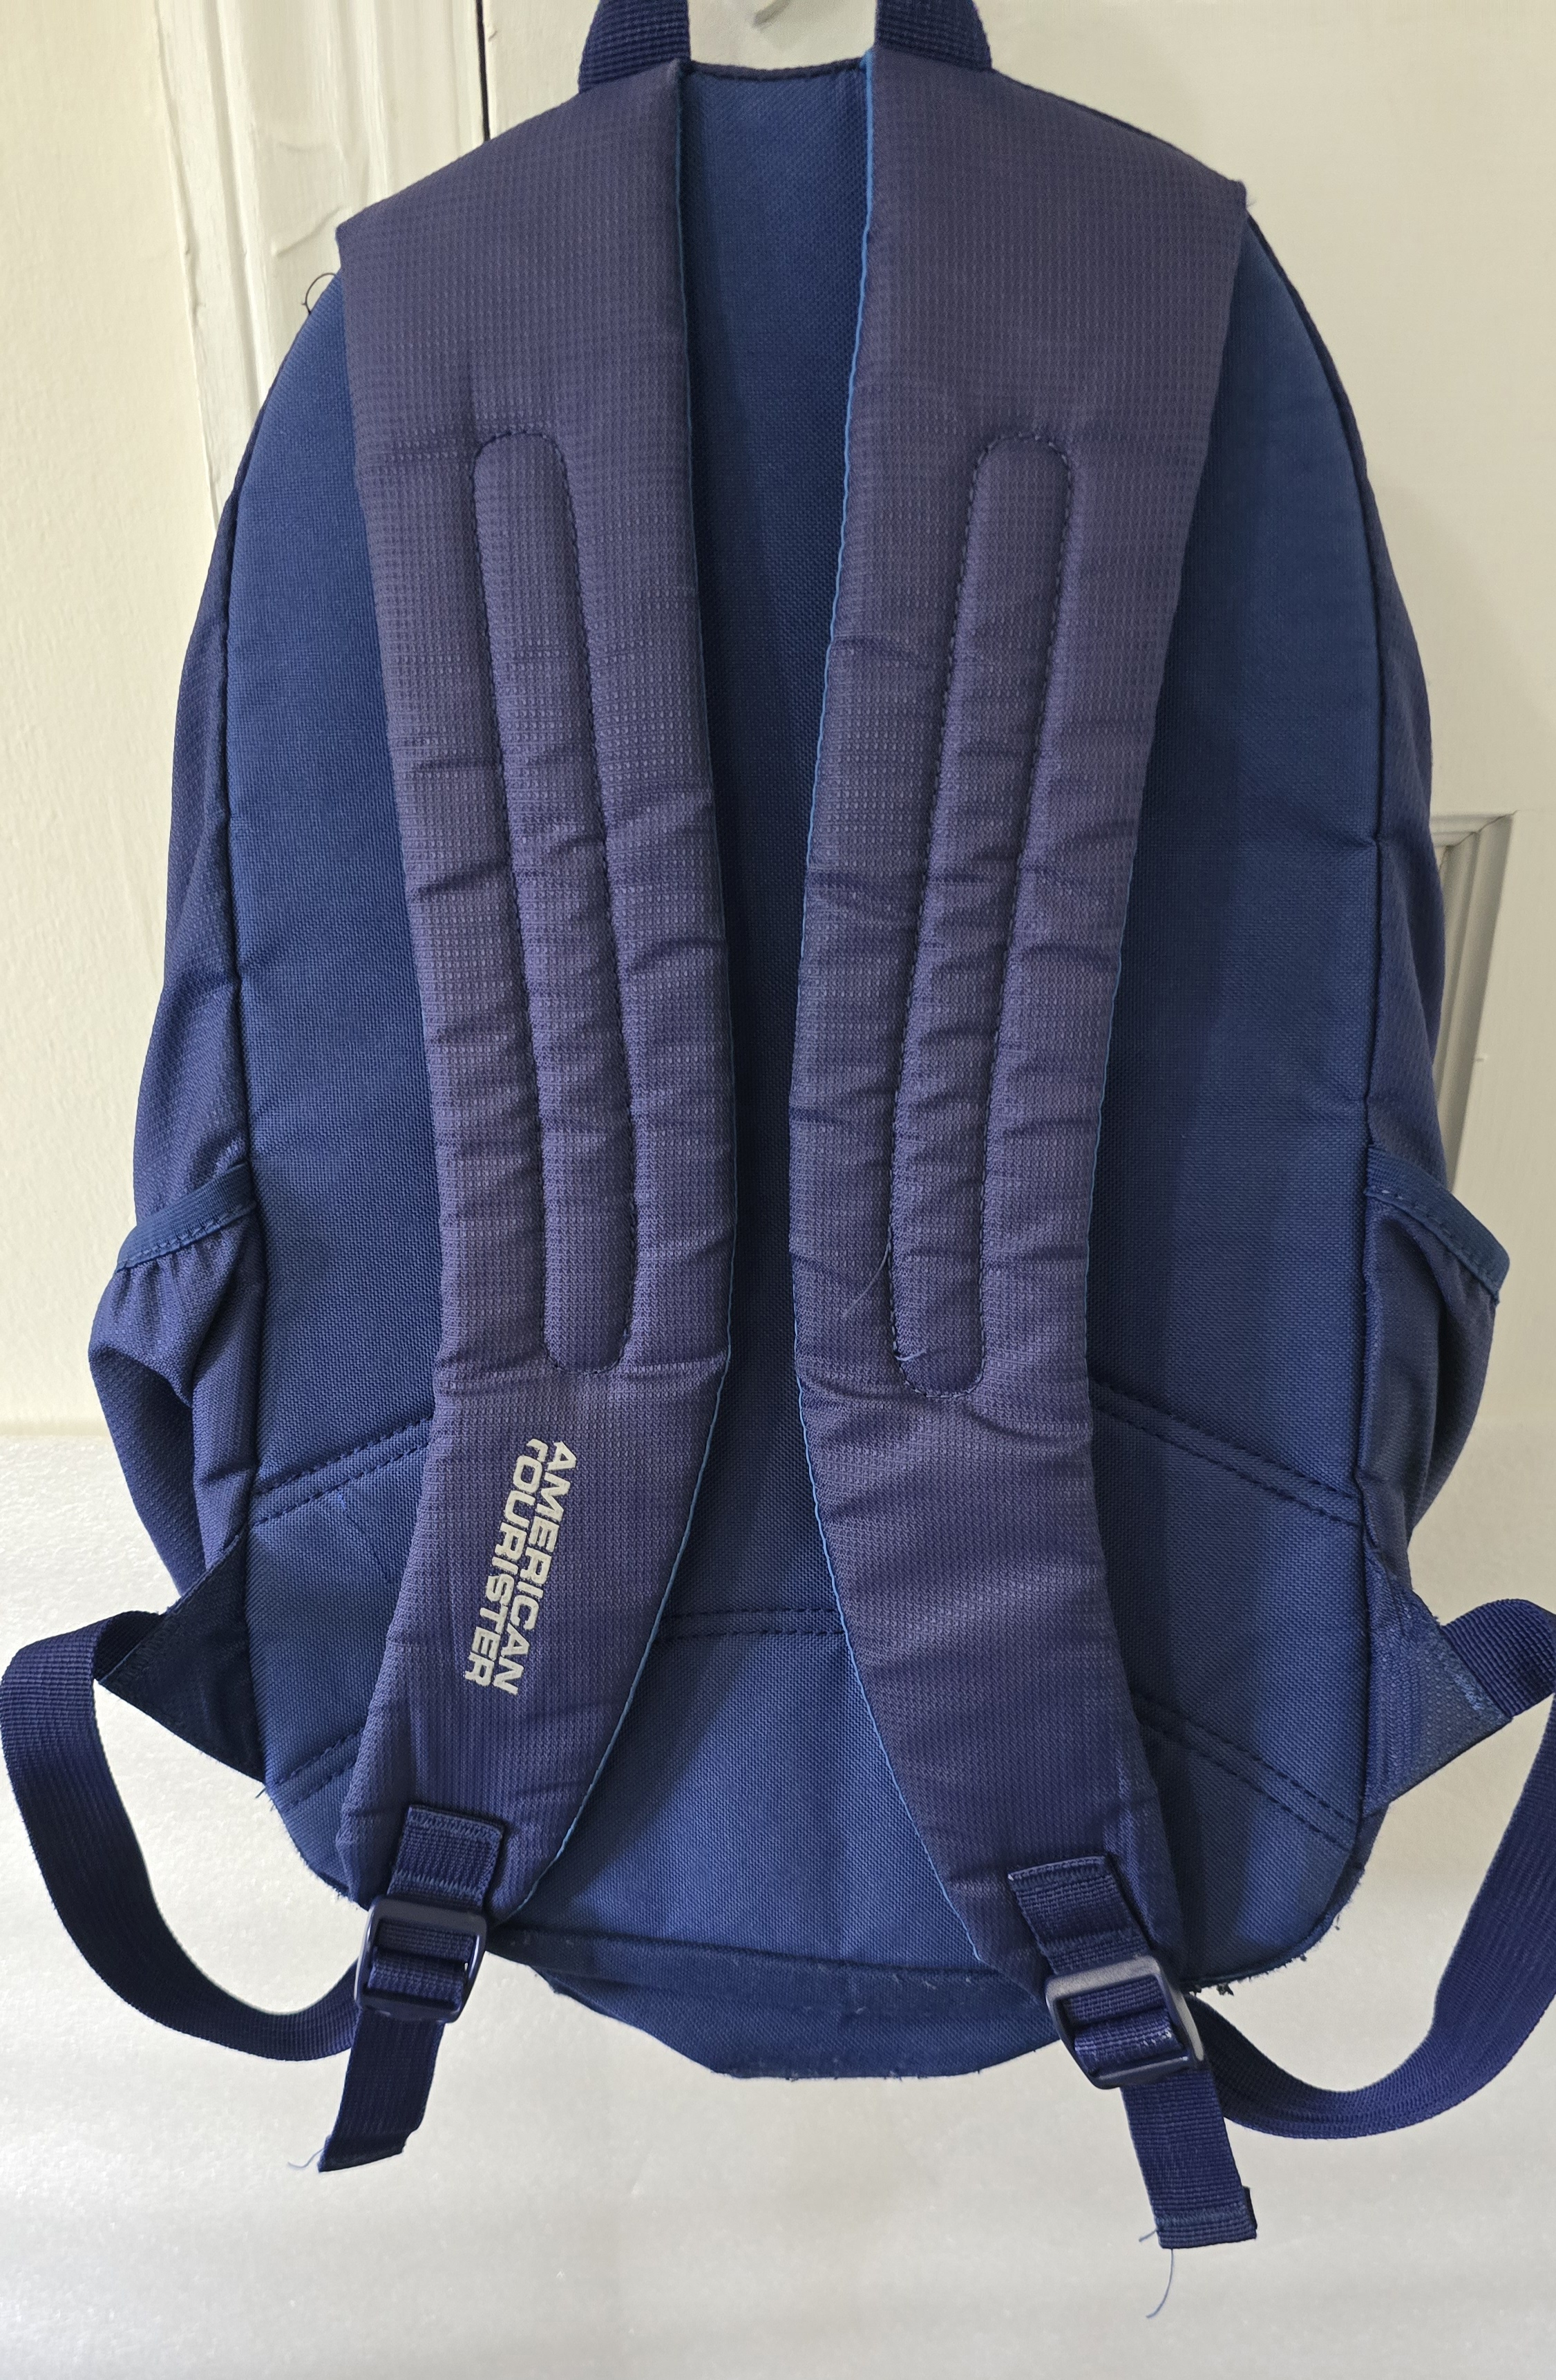bag: (113, 40, 1556, 2061)
